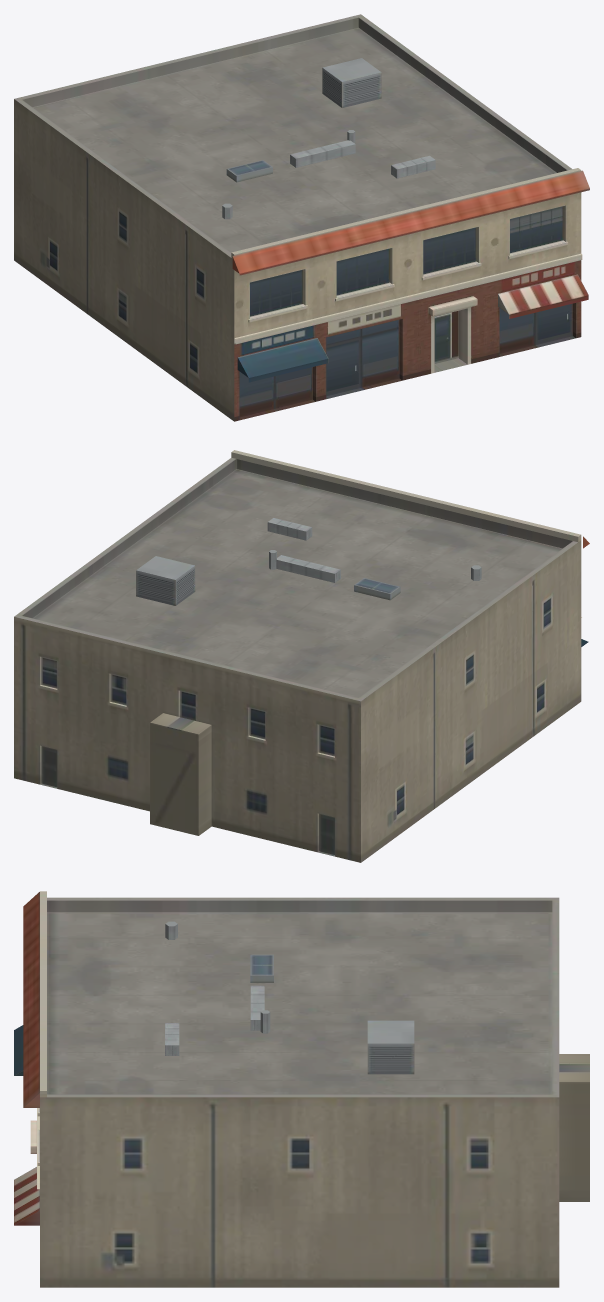
File: sf_lowrise_b.glb
3 renders of one model, top to bottom at view 1: azimuth 30°, elevation 25°; view 2: azimuth 150°, elevation 25°; view 3: azimuth 270°, elevation 25°, orthographic. The views are drawn at different scales.
Visible parts, largest first — view 1: sf_lowrise_b; view 2: sf_lowrise_b; view 3: sf_lowrise_b.
Part boxes in pixels (<box>): sf_lowrise_b: <box>14,14,589,421</box>; sf_lowrise_b: <box>14,450,589,862</box>; sf_lowrise_b: <box>14,891,589,1287</box>.
Bounding box in the file's own units: 20.2 × 9.79 × 24.4.
1 material, 1 textured.
